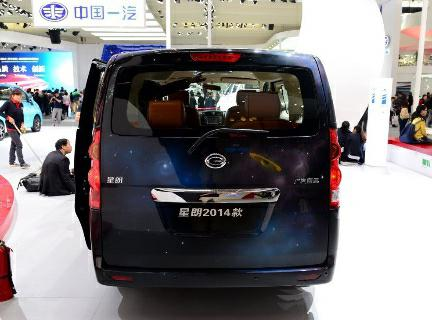广汽吉奥-星朗: (71, 43, 349, 293)
